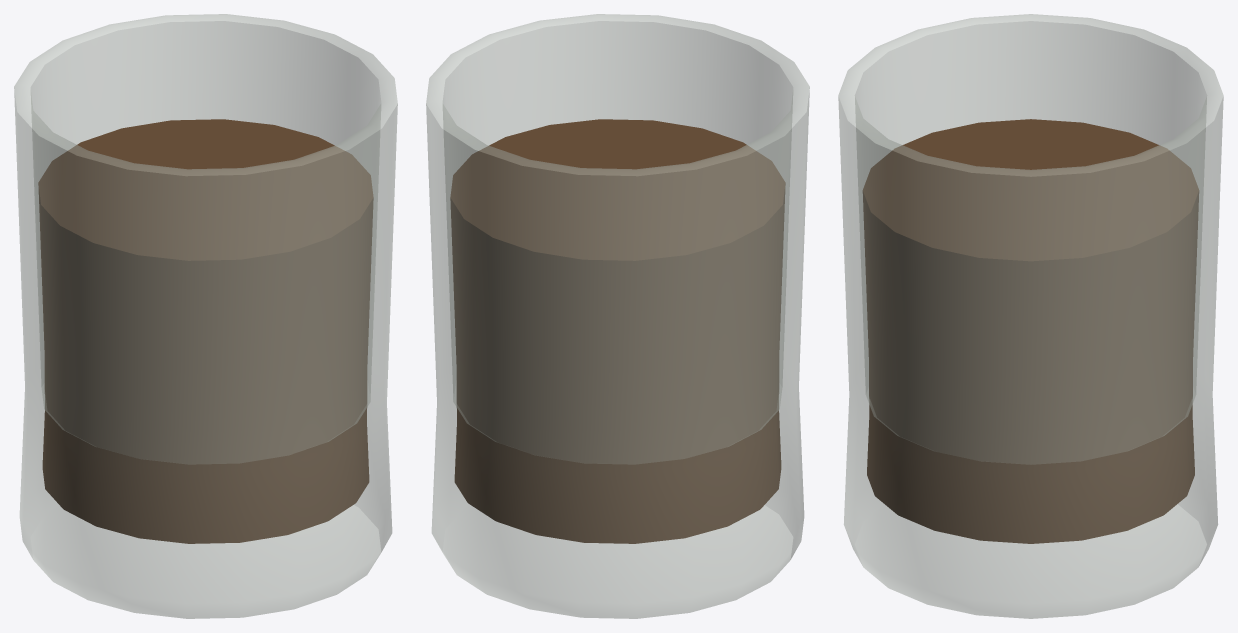
Rendered from drink-9.glb.
3 views of the same model, side by side, from view 1: azimuth 30°, elevation 25°; view 2: azimuth 150°, elevation 25°; view 3: azimuth 270°, elevation 25° (orthographic).
Visible parts, largest first — view 1: glass, liquid; view 2: glass, liquid; view 3: glass, liquid.
Part boxes in pixels (box(x1,y1,x2,y2)): glass: box(14, 14, 397, 618); liquid: box(38, 119, 373, 543); glass: box(426, 14, 809, 618); liquid: box(450, 119, 785, 543); glass: box(838, 14, 1223, 618); liquid: box(862, 119, 1199, 543).
Bounding box in the file's own units: 0.07 × 0.0904 × 0.07.
